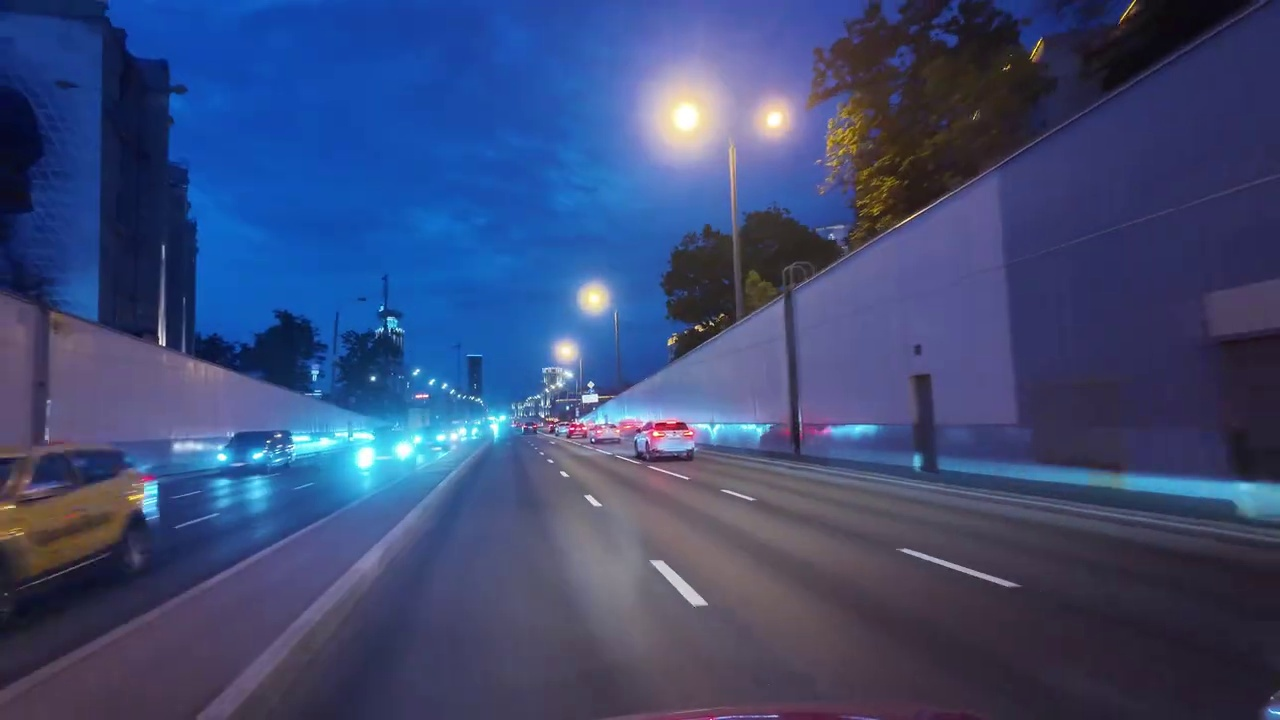acesa: (662, 94, 708, 141), (756, 100, 789, 136), (579, 283, 609, 314), (554, 340, 577, 362)
